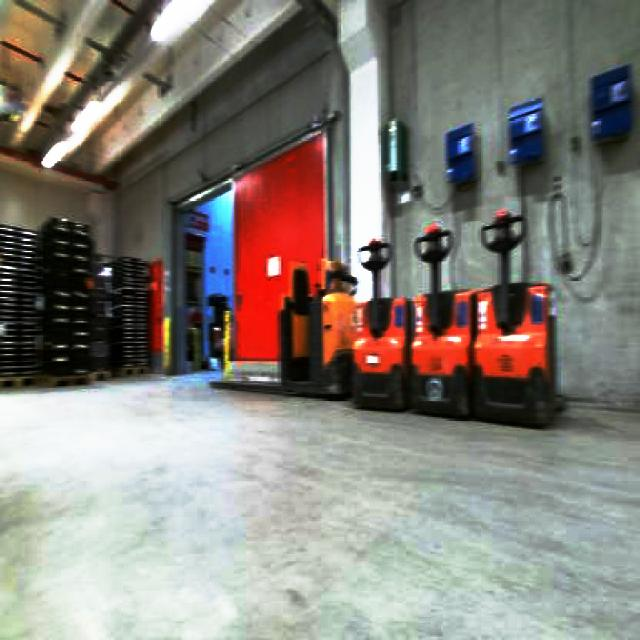ground: (0, 362, 638, 638)
pallet: (0, 214, 151, 388), (42, 215, 92, 378), (0, 220, 43, 382), (106, 254, 151, 375)
